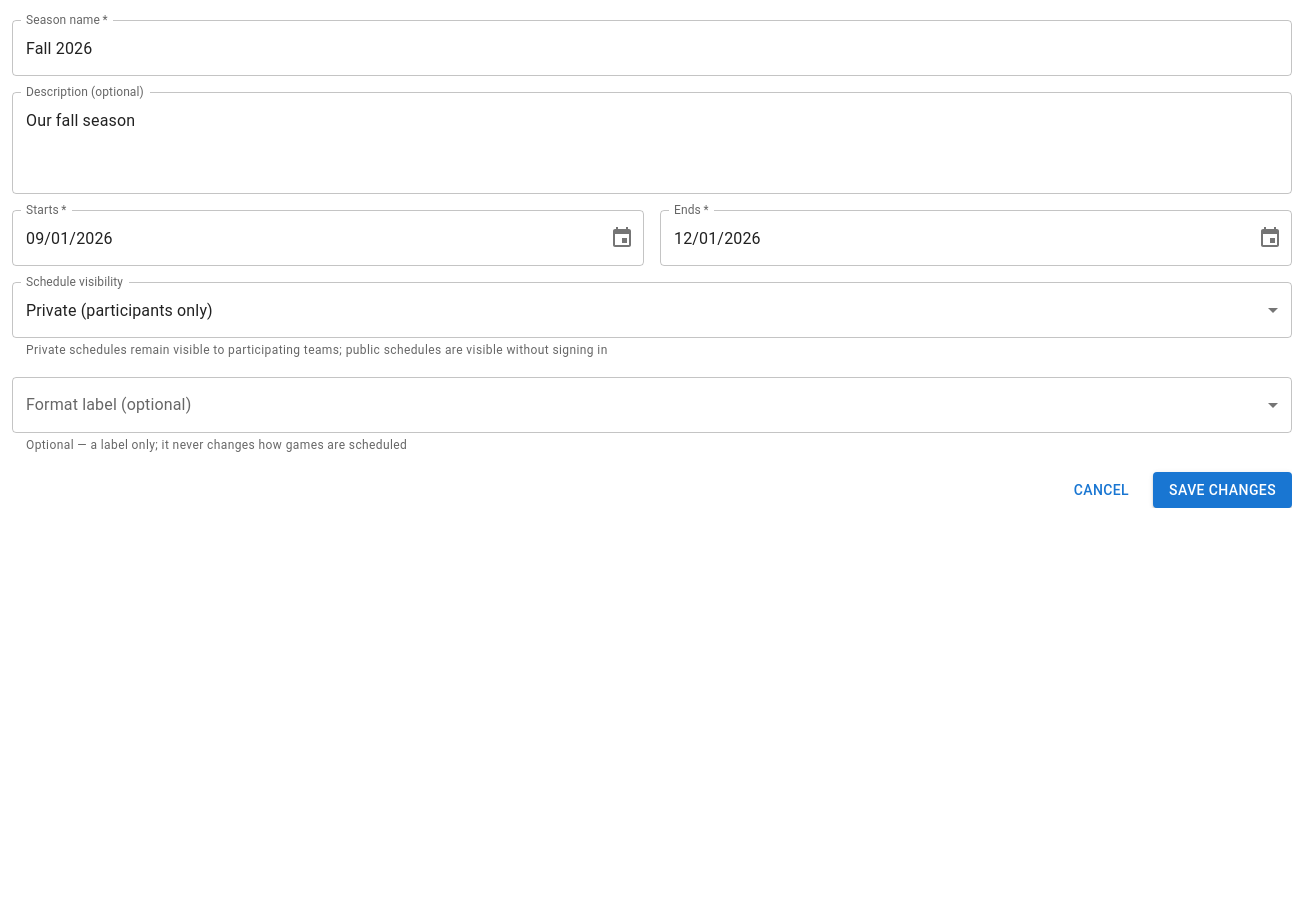
Test: SeasonForm › edit mode (FR-004/005) › offers a Not specified option alongside the format labels
Click the dropdown named "format label (optional)".
click(652, 405)  # box [12, 377, 1292, 433]
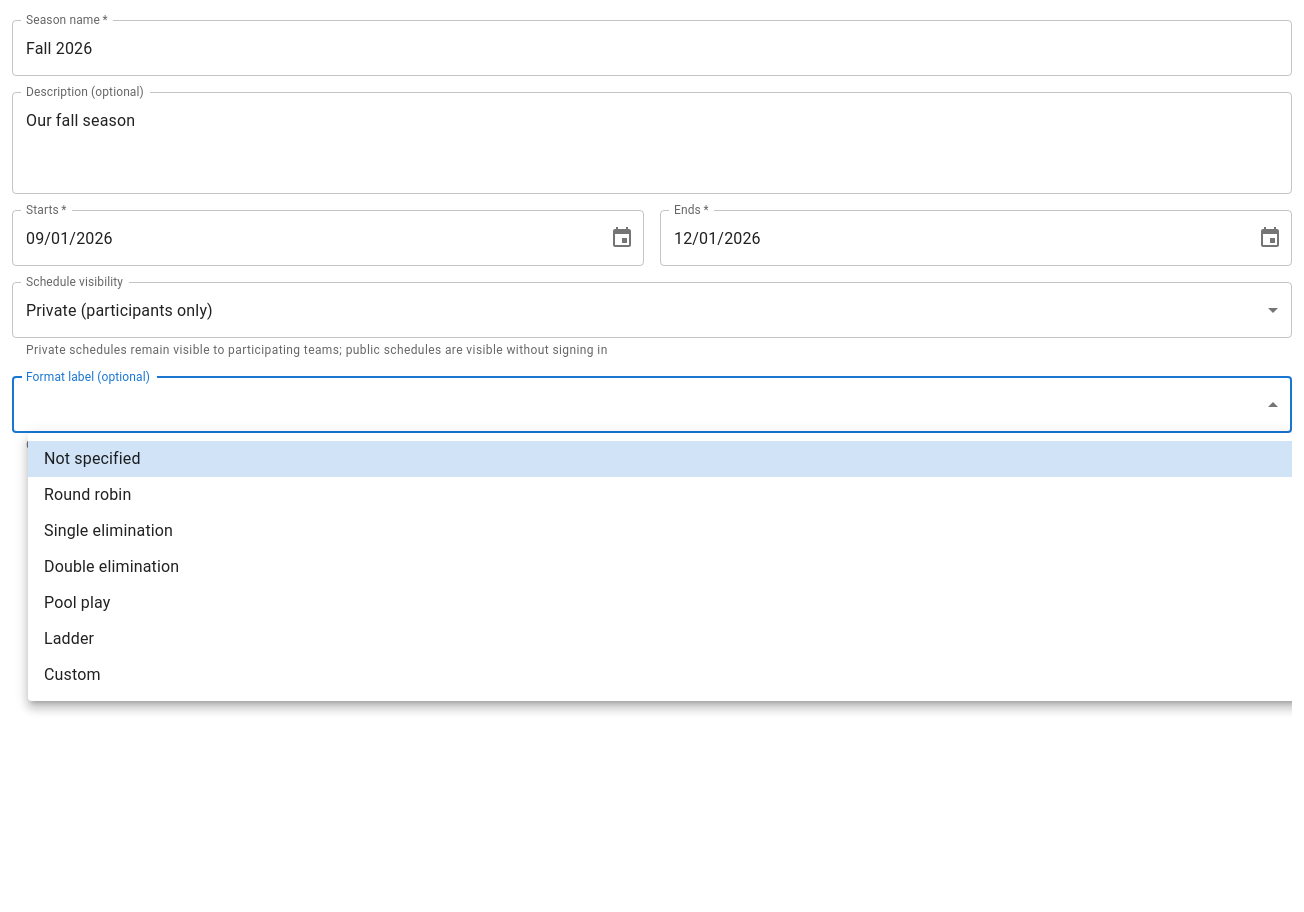
Check: the option "Round robin" is shown, box [44, 485, 131, 504]
Check: the option "Custom" is shown, box [44, 665, 101, 684]
